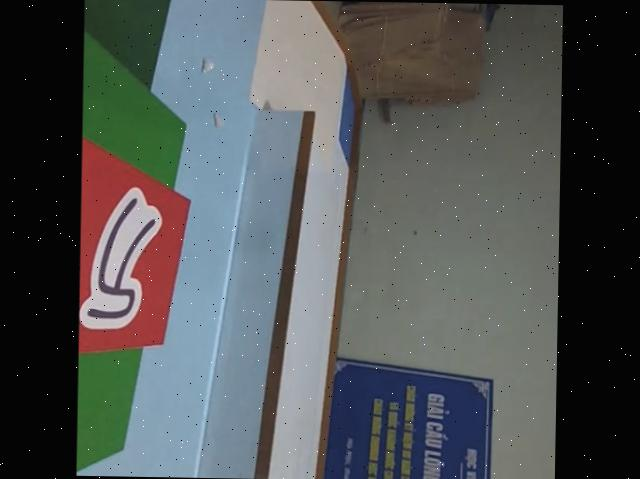R2 Fake: (79, 139, 194, 353)
